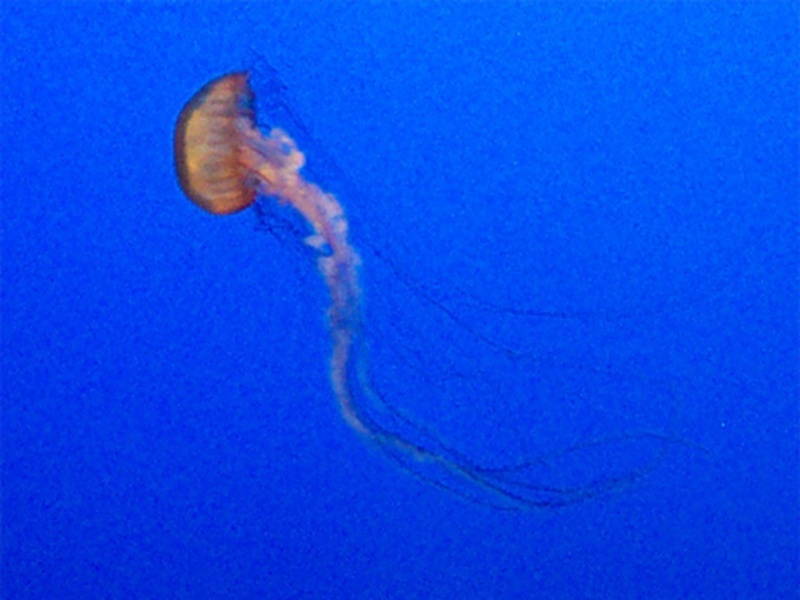Jellyfish: (165, 63, 600, 516)
